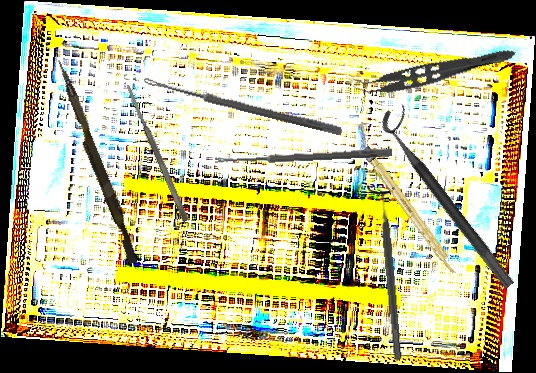Fixation Ring: (376, 101, 529, 290), (365, 181, 412, 362)
Pusher: (48, 58, 144, 265)
Scalpel Handle: (360, 145, 460, 277)
Spatula Surgical: (124, 83, 190, 223)
Surgical Spoon: (141, 76, 344, 136), (214, 147, 393, 166)
Tissue Forceps: (350, 33, 518, 105)
